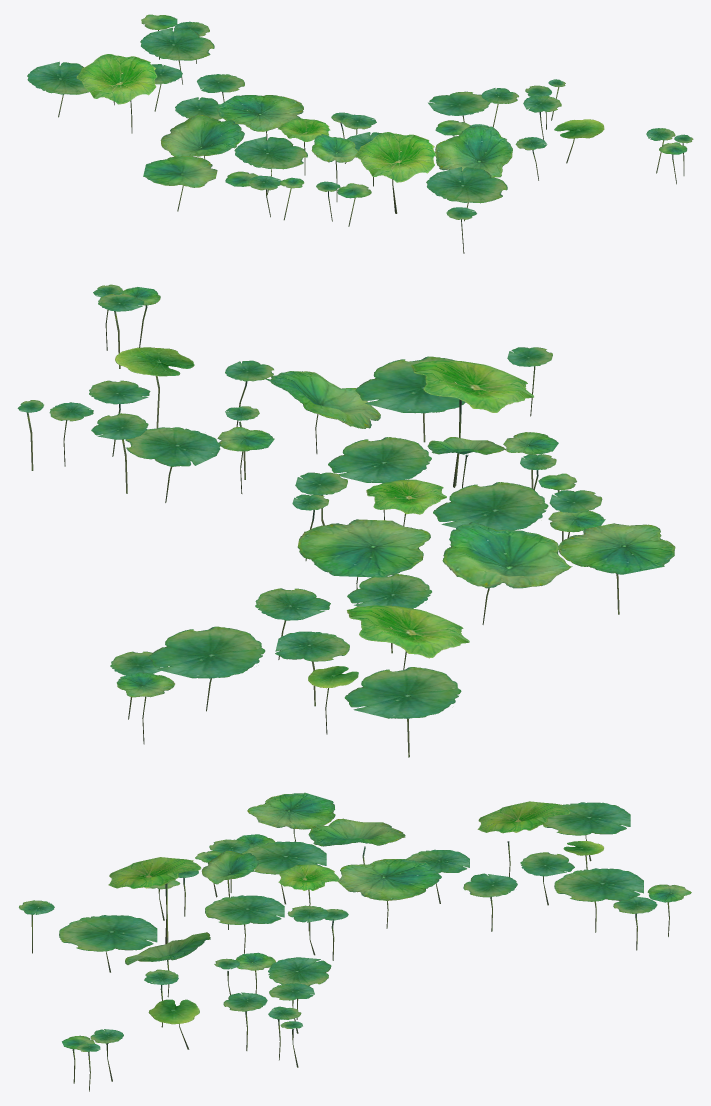
The model's file is xzc_hehua02_w.FBX.
3 renders of one model, top to bottom at view 1: azimuth 30°, elevation 25°; view 2: azimuth 150°, elevation 25°; view 3: azimuth 270°, elevation 25°, orthographic. The views are drawn at different scales.
Parts seen in each view (by area): view 1: xzc_hehua02_w; view 2: xzc_hehua02_w; view 3: xzc_hehua02_w.
Boxes of the visible parts, left/top/right/bottom form: xzc_hehua02_w: left=27, top=14, right=693, bottom=253; xzc_hehua02_w: left=17, top=284, right=675, bottom=757; xzc_hehua02_w: left=19, top=792, right=691, bottom=1091.
Size of the model in its own units: 5907 by 868 by 6486.
